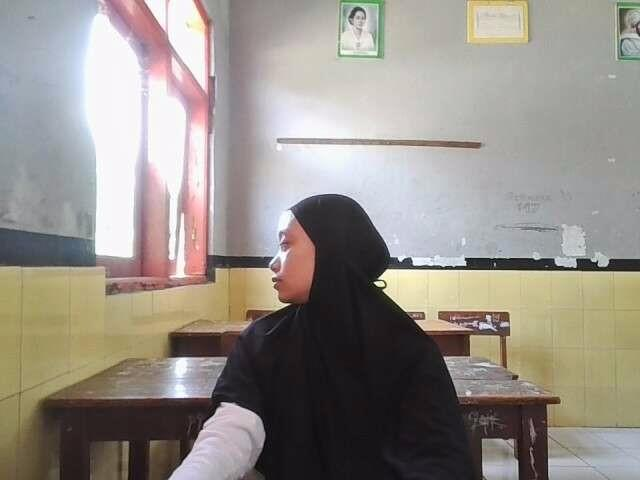cheating: (139, 183, 488, 480)
